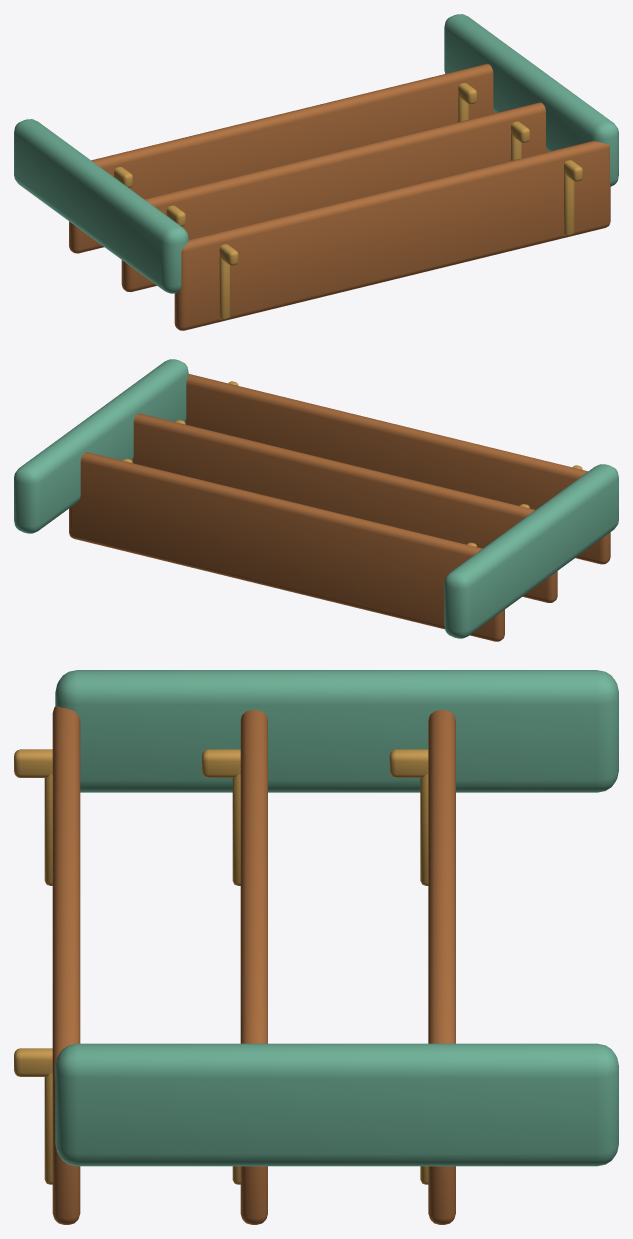
File: OpenDisplayShelf.fbx
3 views of the same model, one above another, from view 1: azimuth 30°, elevation 25°; view 2: azimuth 150°, elevation 25°; view 3: azimuth 270°, elevation 25° (orthographic). The views are drawn at different scales.
Parts seen in each view (by area): view 1: OpenDisplayShelf; view 2: OpenDisplayShelf; view 3: OpenDisplayShelf.
Part boxes in pixels (left/top/right/bottom): OpenDisplayShelf: left=14, top=14, right=618, bottom=330; OpenDisplayShelf: left=14, top=359, right=618, bottom=641; OpenDisplayShelf: left=14, top=670, right=618, bottom=1224.
Size of the model in its own units: 1.7 by 0.36 by 1.09.
